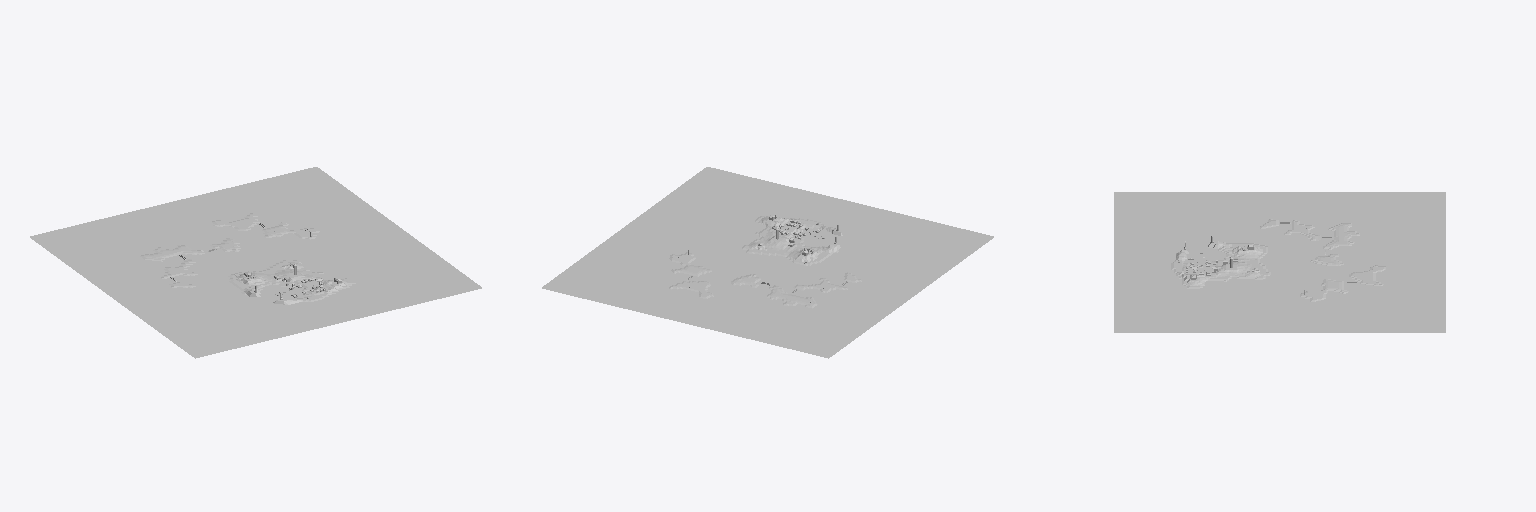
The model's file is OutE2.Odm.obj.
3 views of the same model, side by side, from view 1: azimuth 30°, elevation 25°; view 2: azimuth 150°, elevation 25°; view 3: azimuth 270°, elevation 25° (orthographic).
Visible parts, largest first — view 1: _Ground_; view 2: _Ground_; view 3: _Ground_.
Boxes of the visible parts, x1,y1,x2,y2 form: _Ground_: [30, 167, 481, 358]; _Ground_: [542, 167, 993, 358]; _Ground_: [1114, 192, 1445, 332].
Bounding box in the file's own units: 65024 × 2816 × 65024.